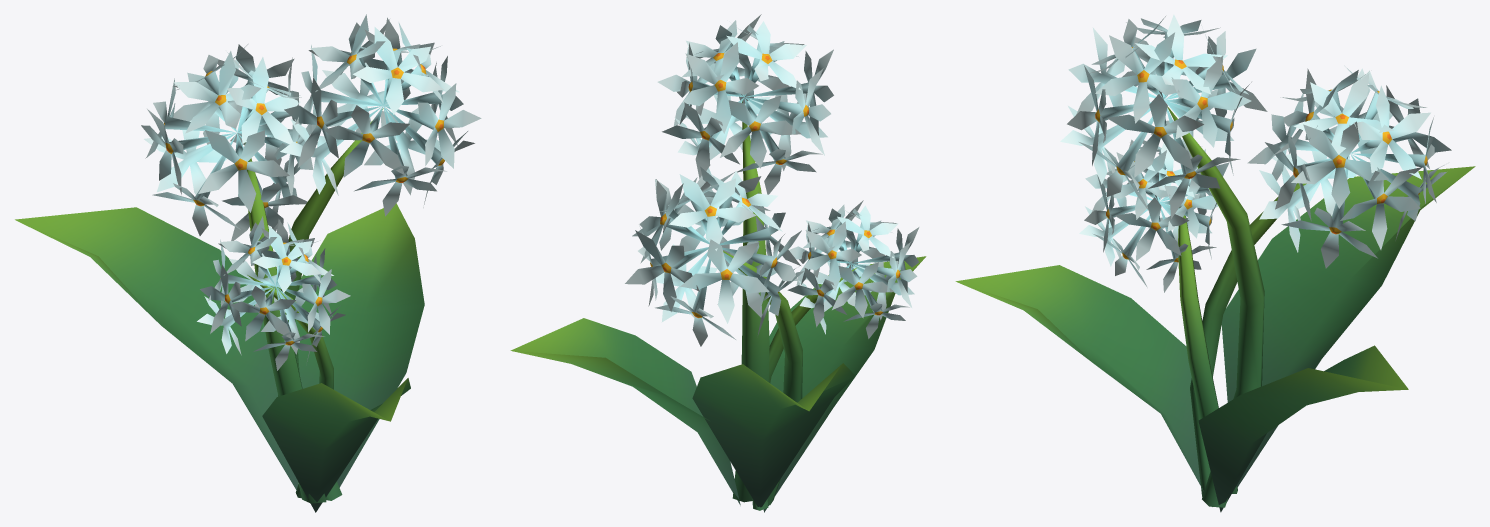
File: Flower_Decoration_01.fbx
3 views of the same model, side by side, from view 1: azimuth 30°, elevation 25°; view 2: azimuth 150°, elevation 25°; view 3: azimuth 270°, elevation 25° (orthographic). The views are drawn at different scales.
Parts seen in each view (by area): view 1: Flower.030; view 2: Flower.030; view 3: Flower.030.
Boxes of the visible parts, <box> form: Flower.030: <box>15,14,481,512</box>; Flower.030: <box>510,14,926,512</box>; Flower.030: <box>955,14,1475,512</box>.
Size of the model in its own units: 192 by 258 by 238.
